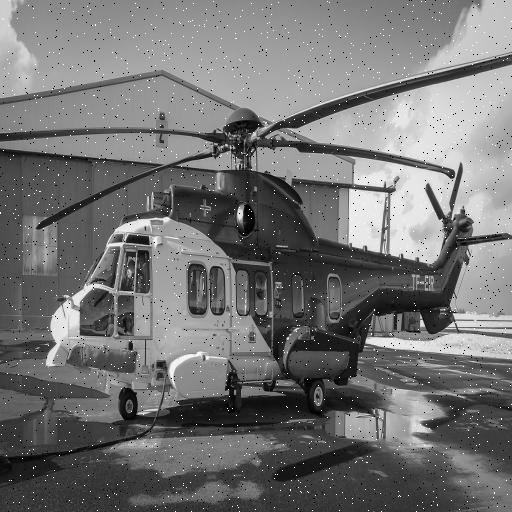helicopter: (26, 63, 506, 457)
